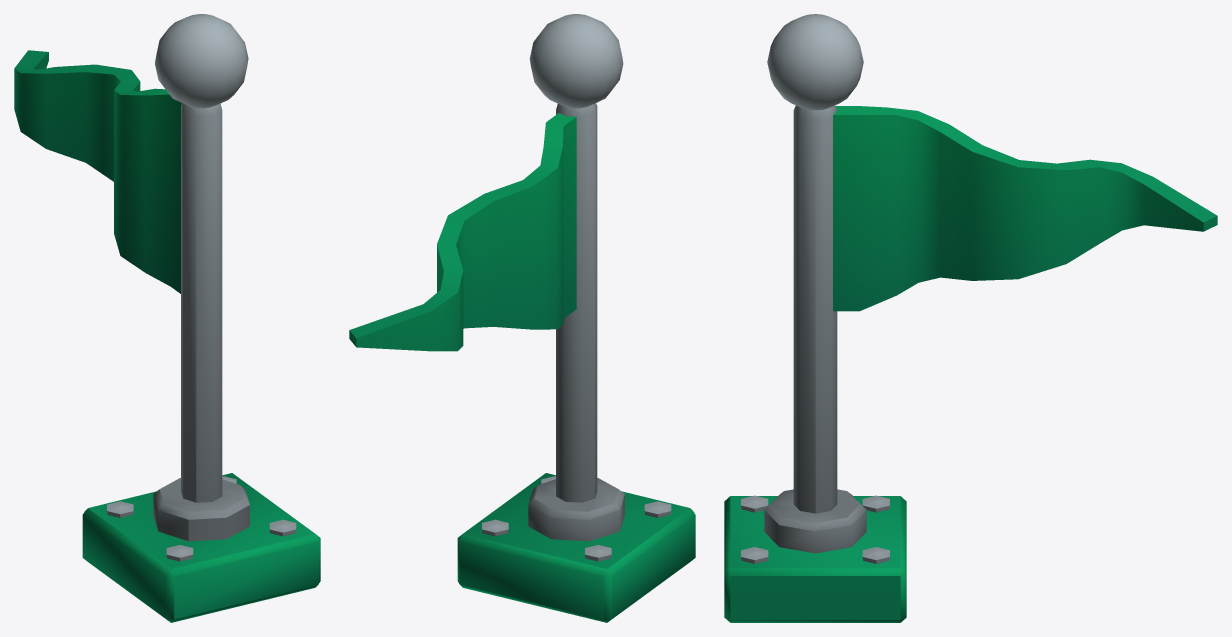
File: drapeau-vert.glb
3 views of the same model, side by side, from view 1: azimuth 30°, elevation 25°; view 2: azimuth 150°, elevation 25°; view 3: azimuth 270°, elevation 25° (orthographic). The views are drawn at different scales.
Visible parts, largest first — view 1: flag_A_green; view 2: flag_A_green; view 3: flag_A_green.
Part boxes in pixels (bbox=[...]): flag_A_green: bbox=[14, 14, 320, 622]; flag_A_green: bbox=[349, 14, 695, 622]; flag_A_green: bbox=[724, 14, 1217, 622].
Size of the model in its own units: 0.6 by 2.06 by 1.62.
Materials: 1 (1 with a texture image).
